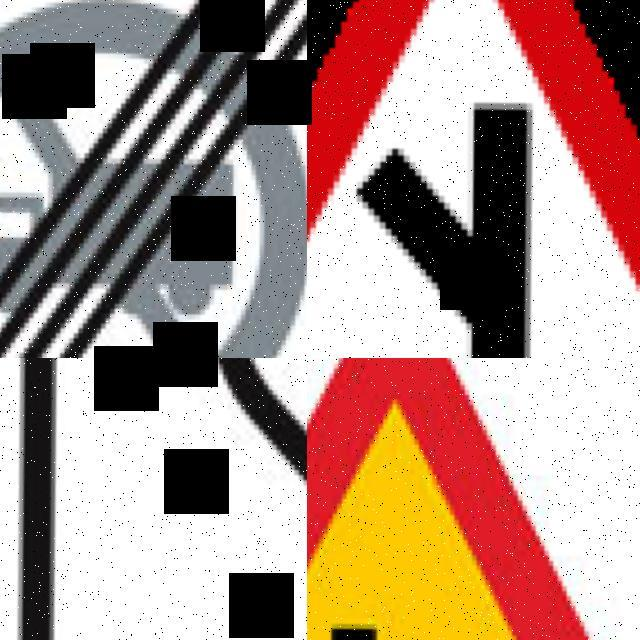111: (0, 0, 307, 358)
166: (307, 358, 640, 640)
170: (0, 358, 307, 640)
Oblique side road junction: (307, 0, 640, 358)
